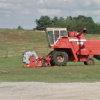Tractor: (36, 23, 100, 73)
